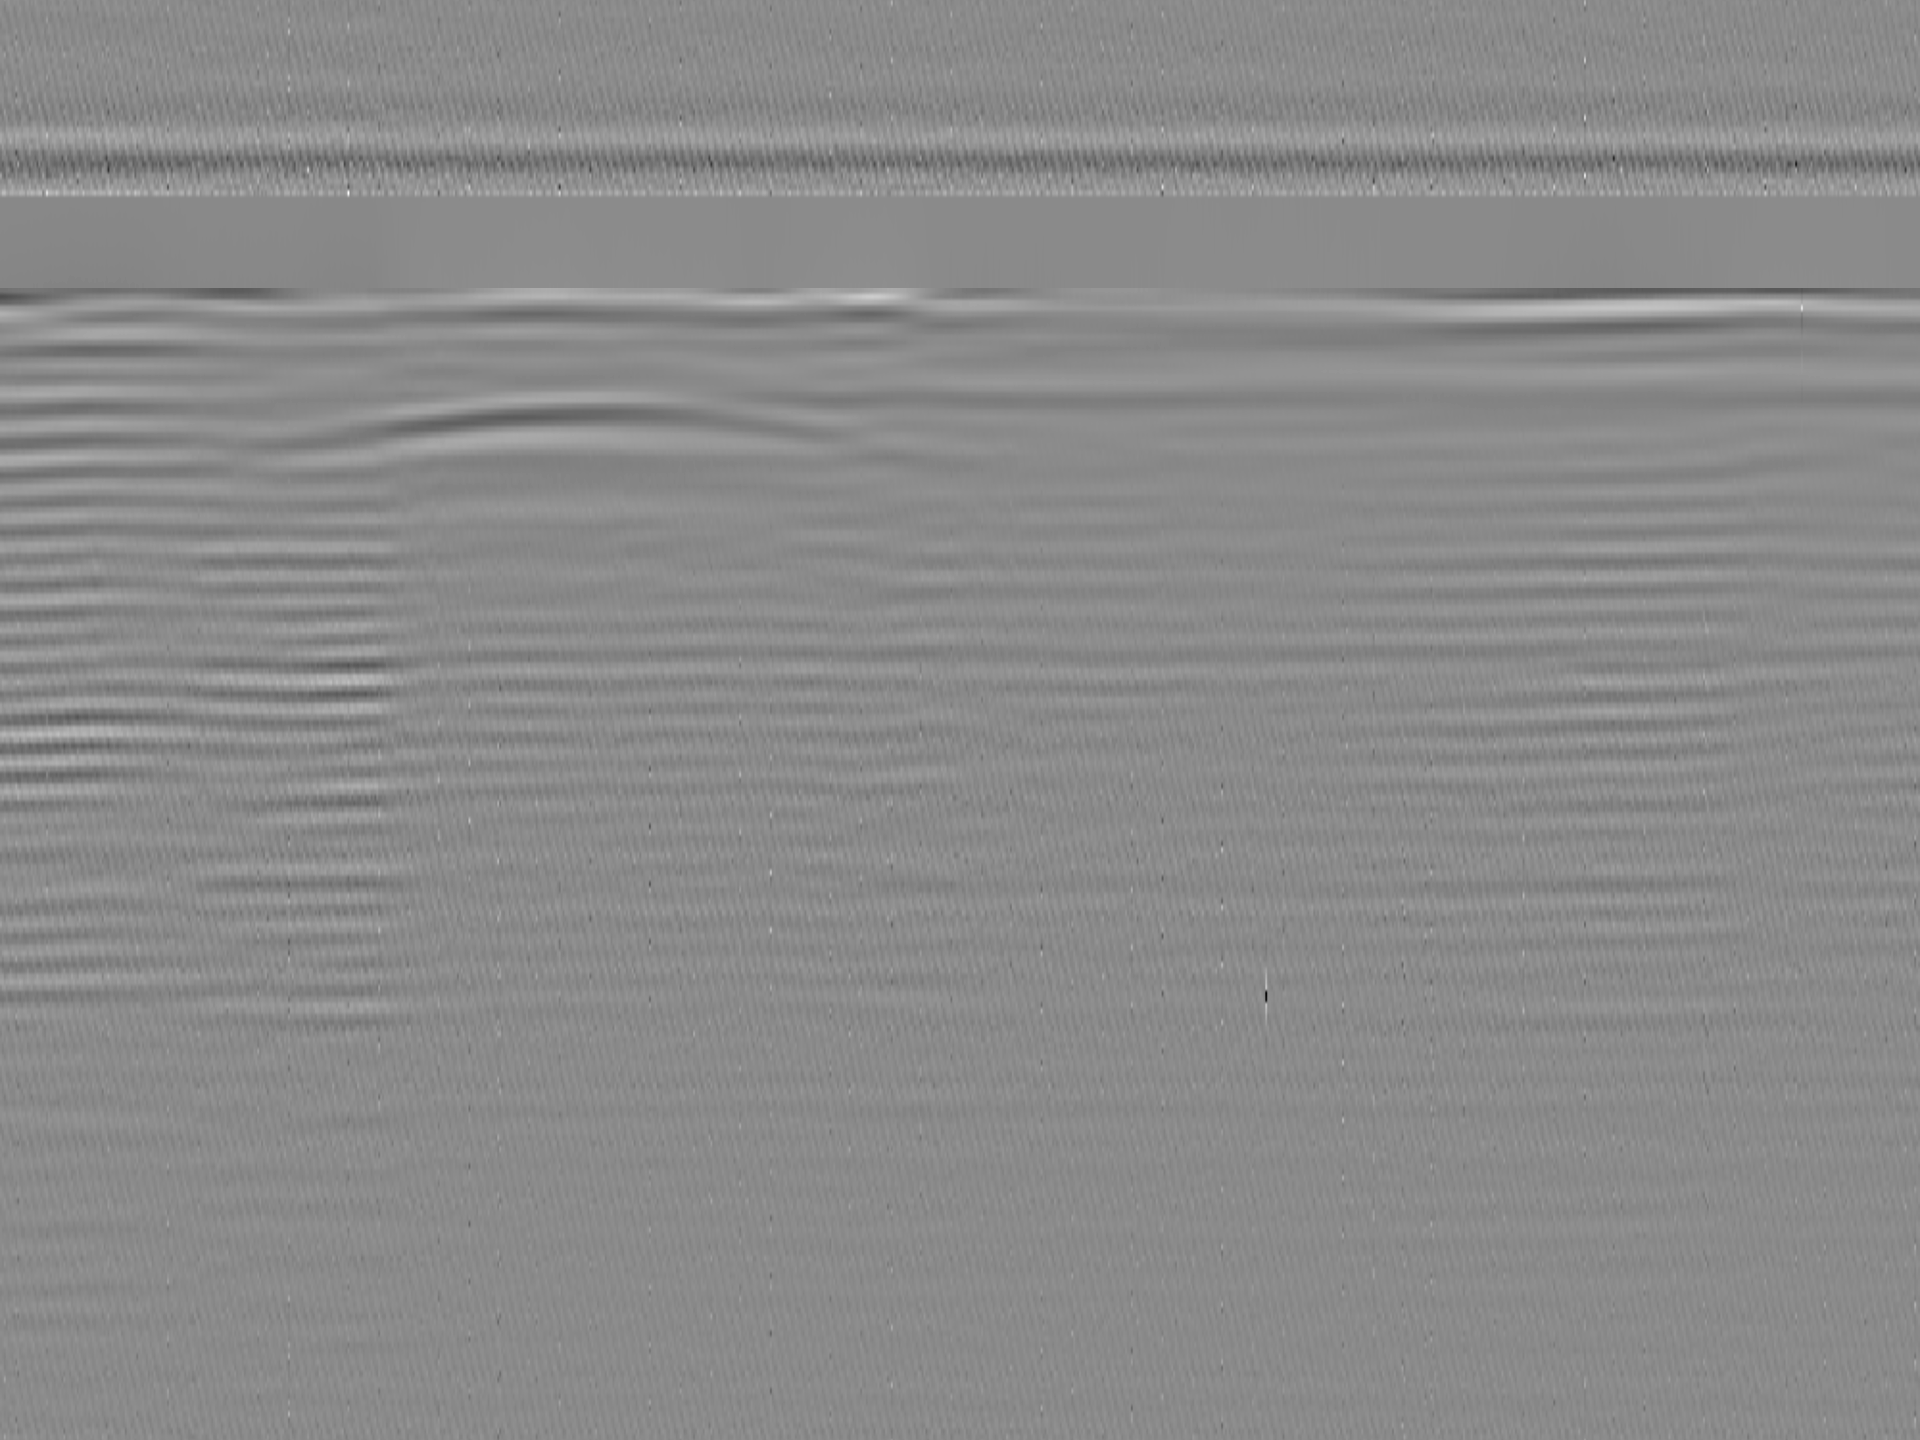Tunnel: (310, 383, 857, 458)
